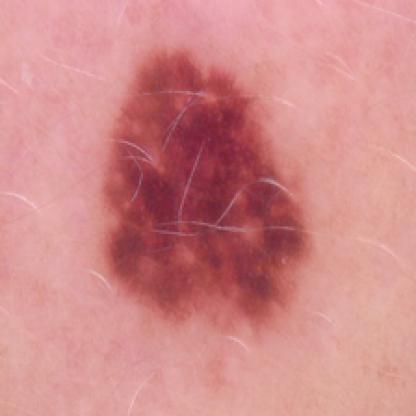benign: (104, 39, 327, 331)
